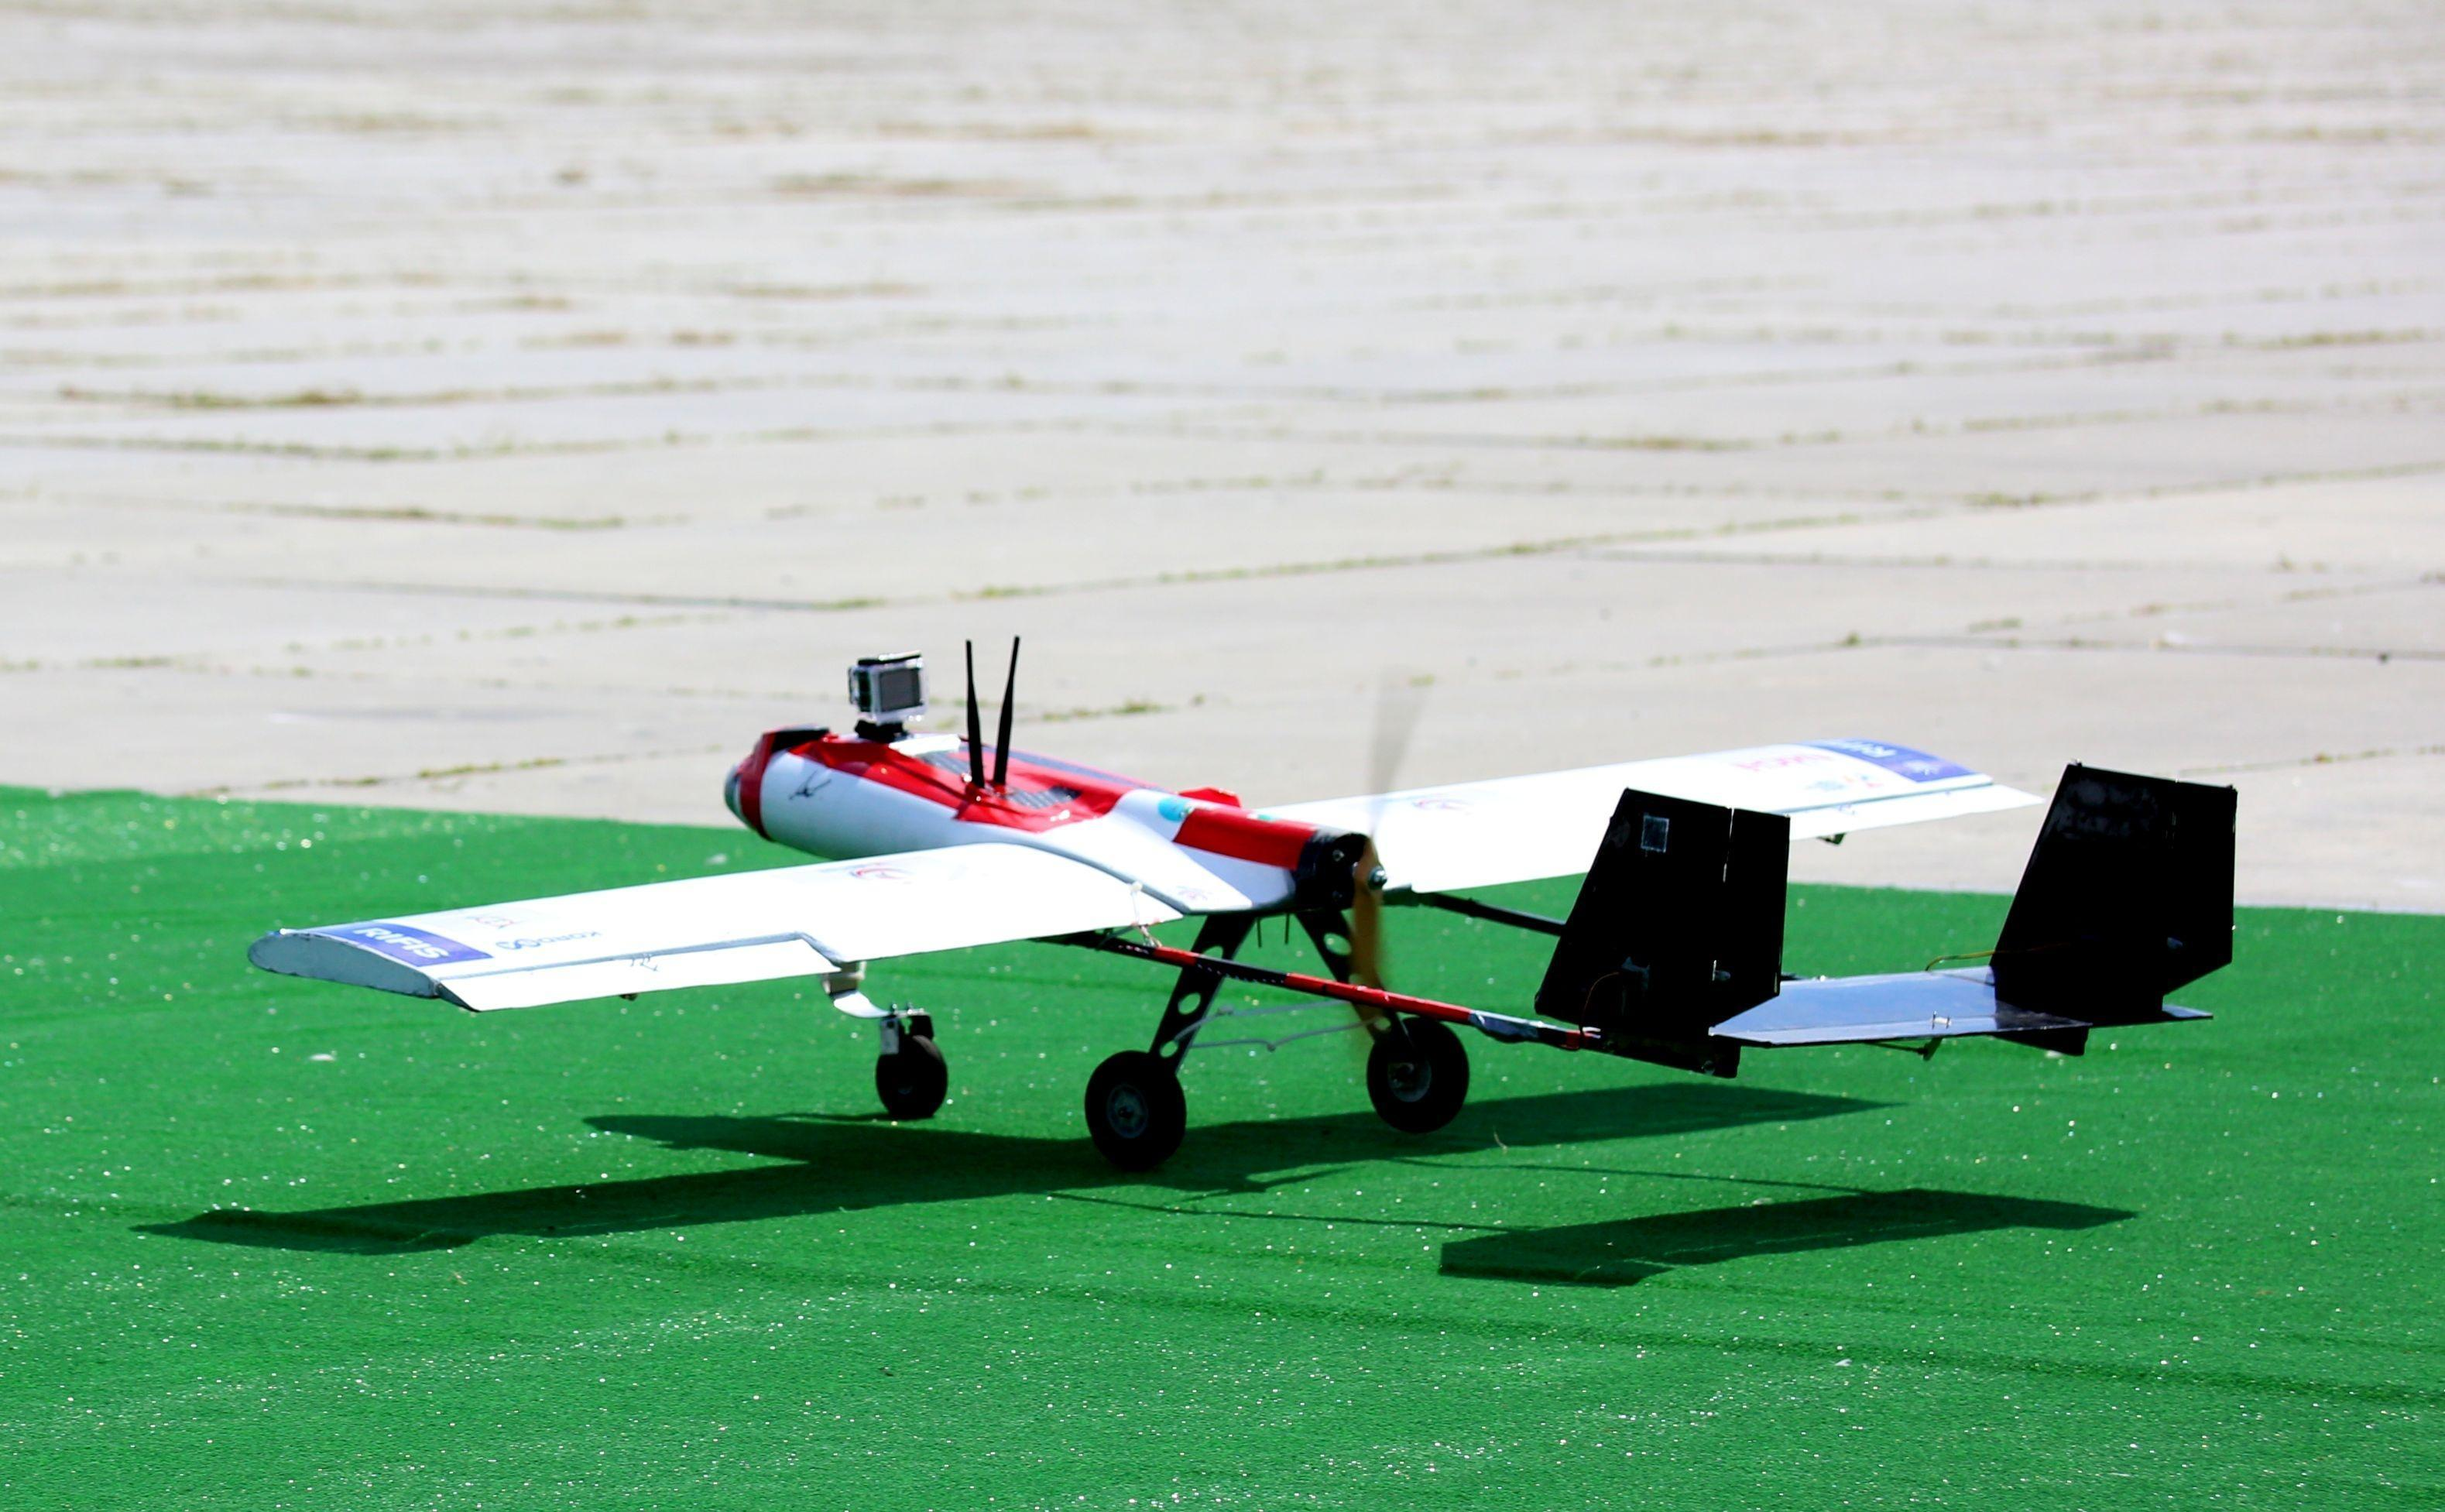Airplane: (246, 636, 2241, 1175)
